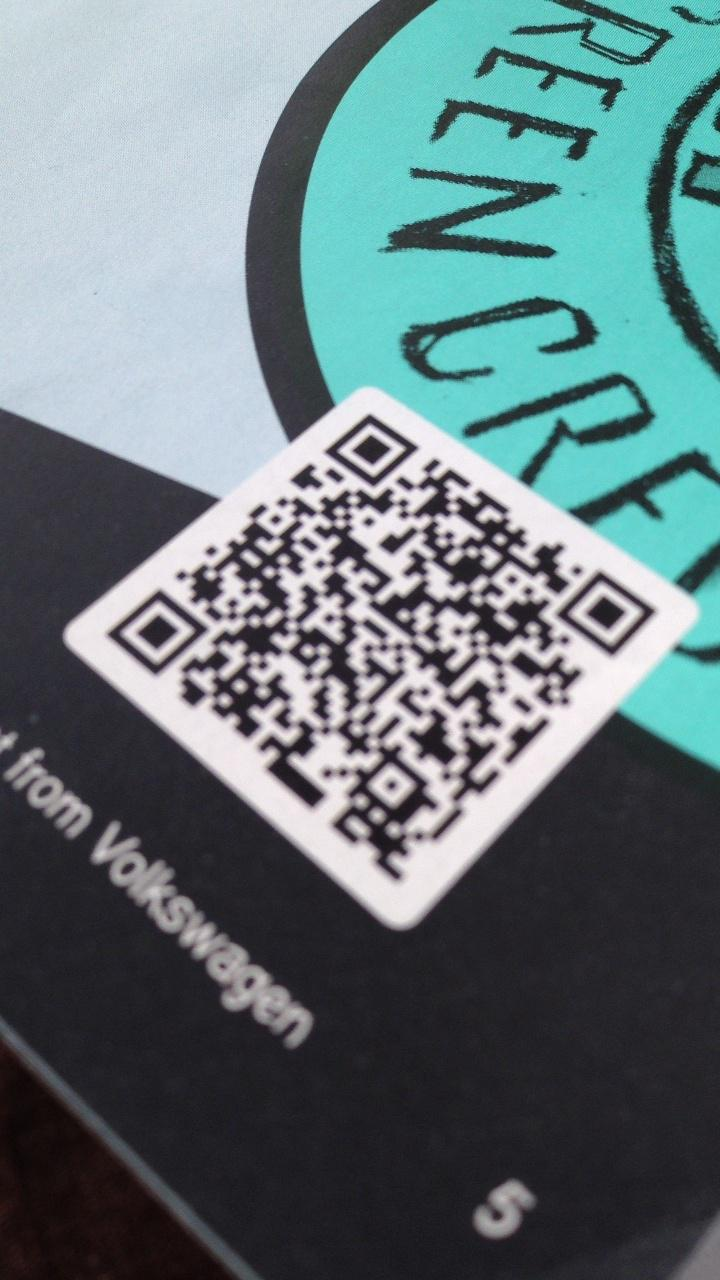Finder pattern: (552, 564, 660, 655), (109, 585, 205, 676), (320, 409, 424, 485)
